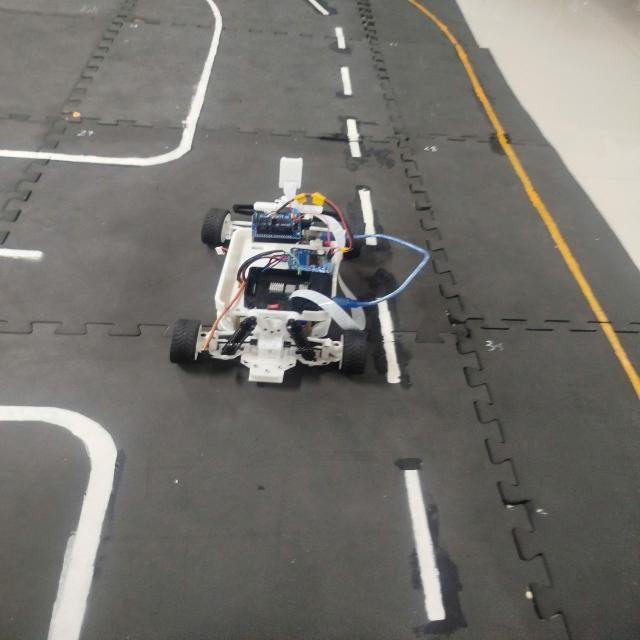SiCo-CAR: (166, 156, 426, 386)
